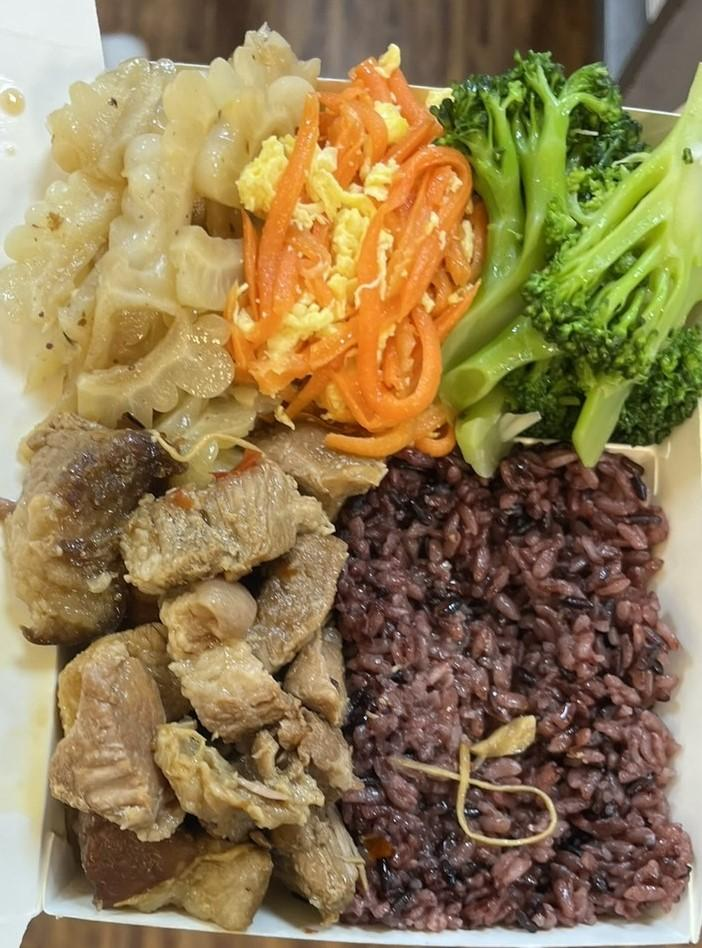big grilled chicken leg: (14, 28, 702, 948)
braised fish: (348, 444, 688, 935)
braised fish fillet: (23, 22, 313, 439), (436, 44, 702, 460), (238, 62, 474, 455)
braised pork: (17, 420, 386, 927)
